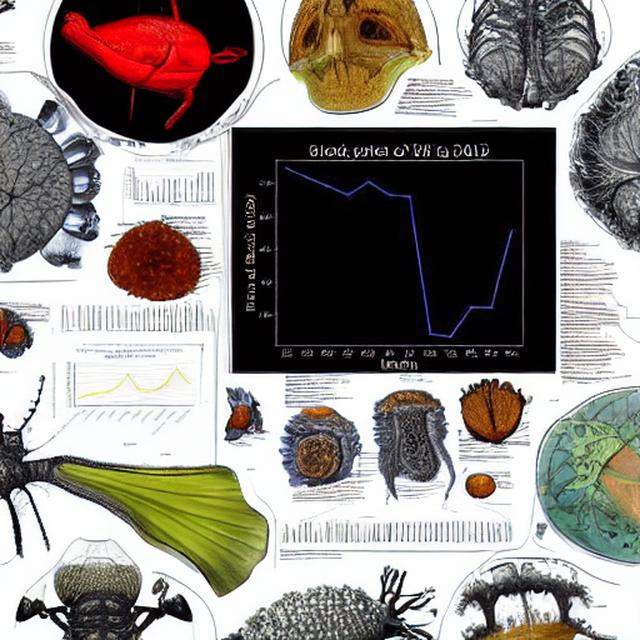Graph: (235, 131, 556, 372), (48, 345, 197, 448), (121, 158, 218, 211)
